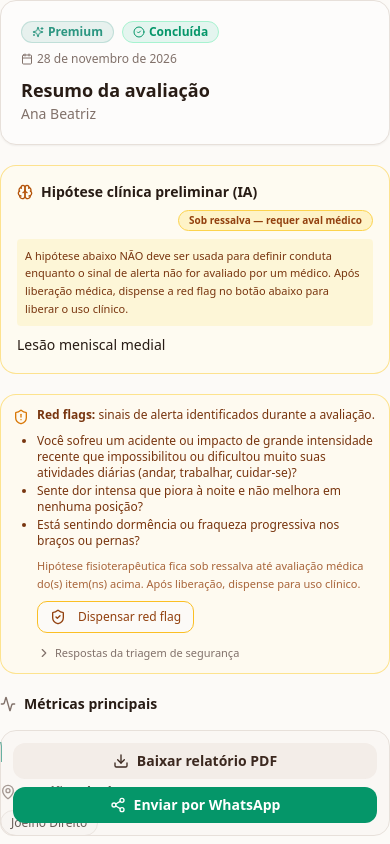
it: AssessmentSummaryView — respostas da triagem de red flags › shape legado ({key:bool}): lista positivas e expande Q&A completo
The width and height of the screenshot is (390, 844).
Check: the text "sinais de alerta identificados" is shown, box 98,406 -> 375,423
Click the button "Respostas da triagem de segurança" at (138, 653), box 37,644 -> 239,661
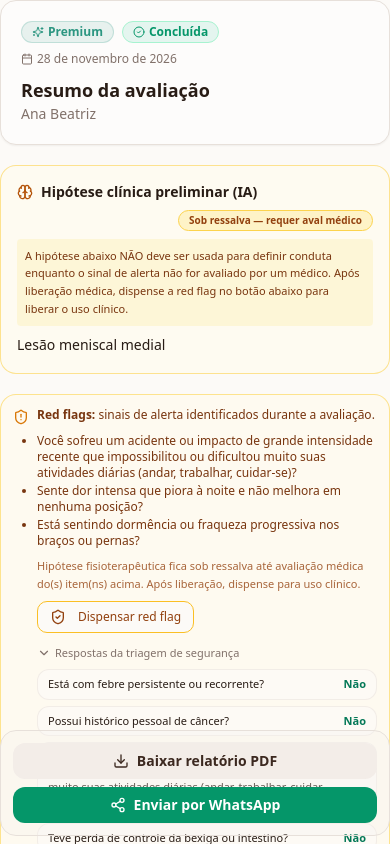
Check: the text "Não" is shown 5 times
